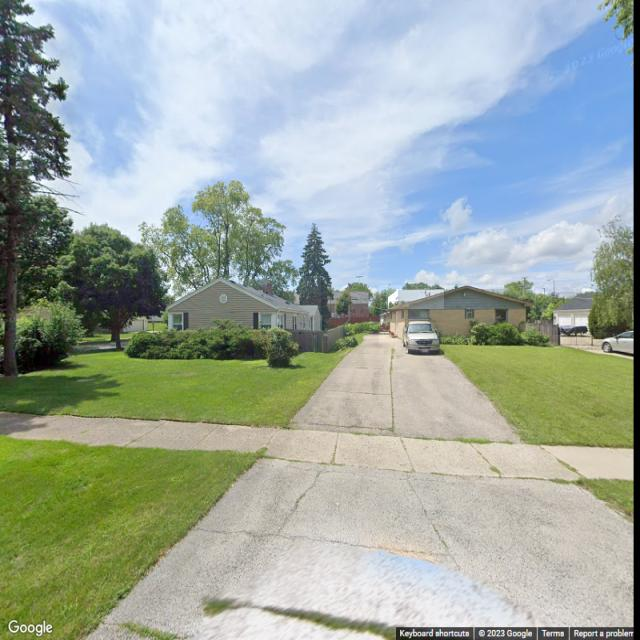House: (379, 285, 534, 342), (168, 276, 322, 332), (552, 292, 598, 335), (386, 289, 444, 309)
